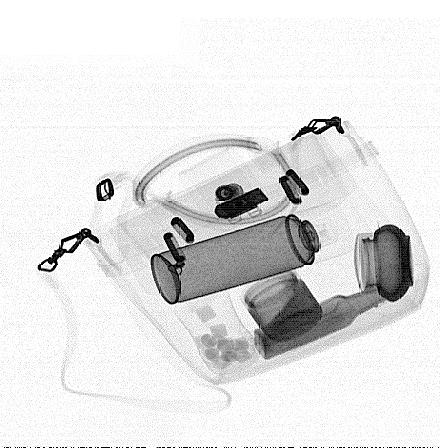Sprayer: (150, 202, 357, 306)
